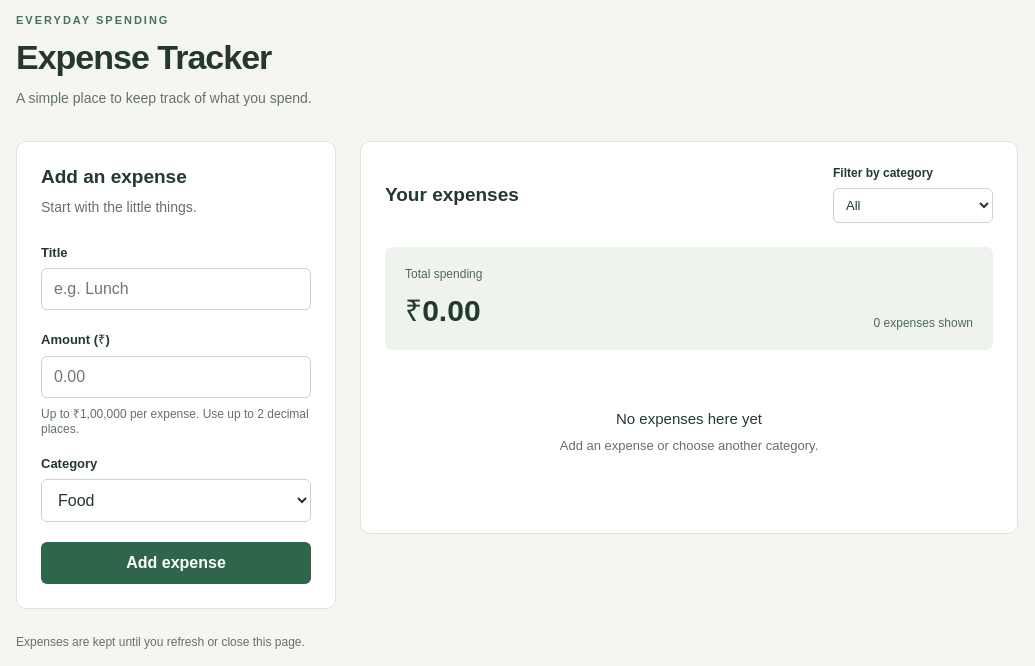
Test: expense tracker › shows zero when a category has no expenses
Step 1. Type "Lunch" into the field labelled "Title" → (176, 289), box [41,268,311,310]
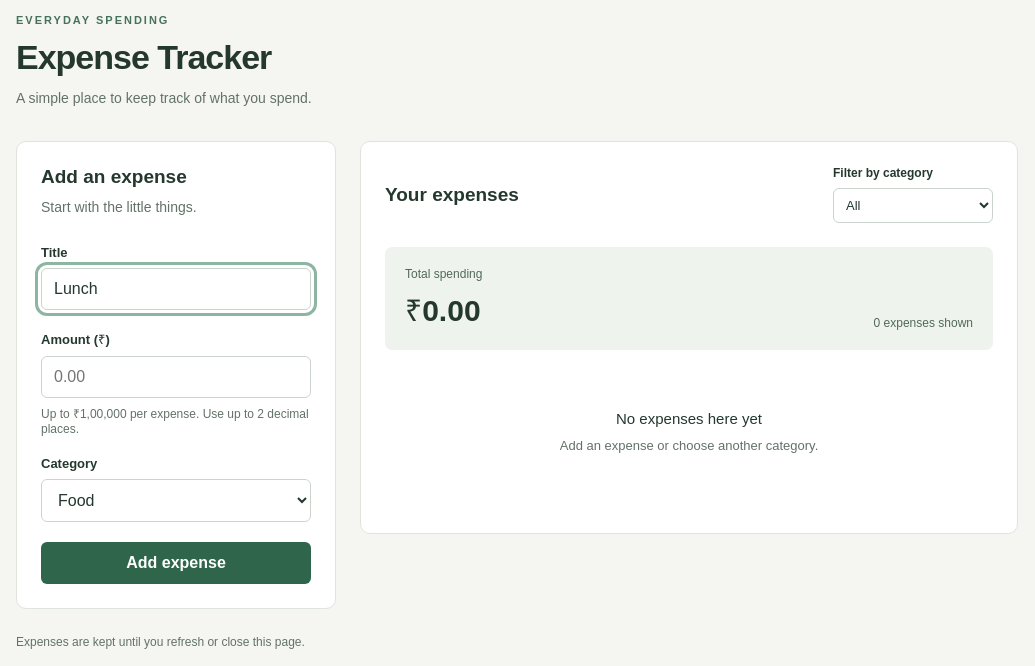
Step 2. Type "250" into the field labelled "Amount (₹)" → (176, 377), box [41,356,311,398]
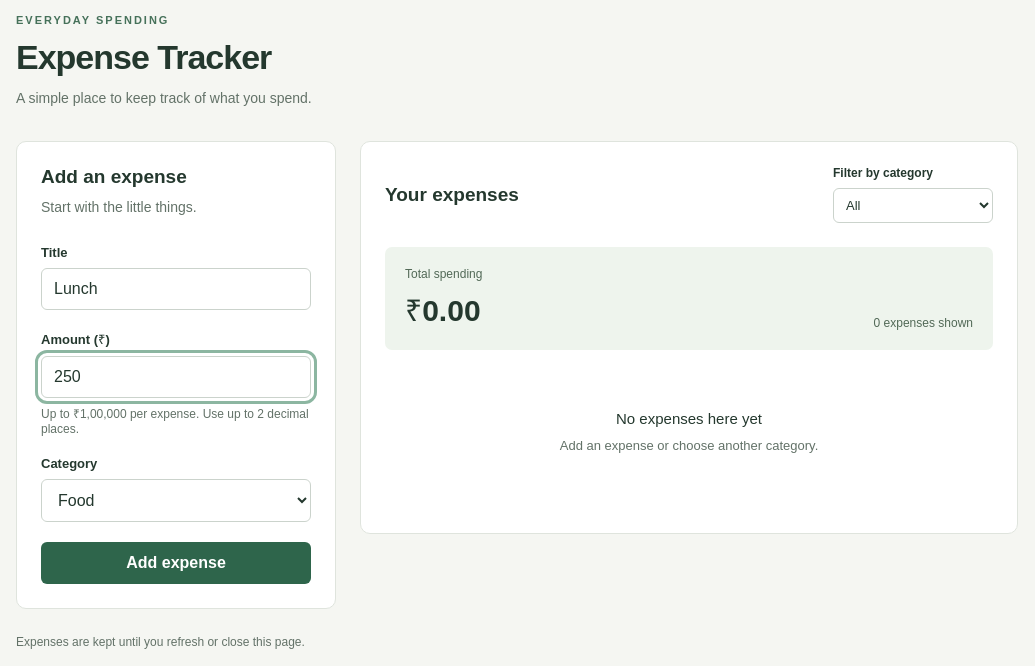
Step 3. Select "Food" in the dropdown labelled "Category" → (176, 500), box [41,479,311,522]
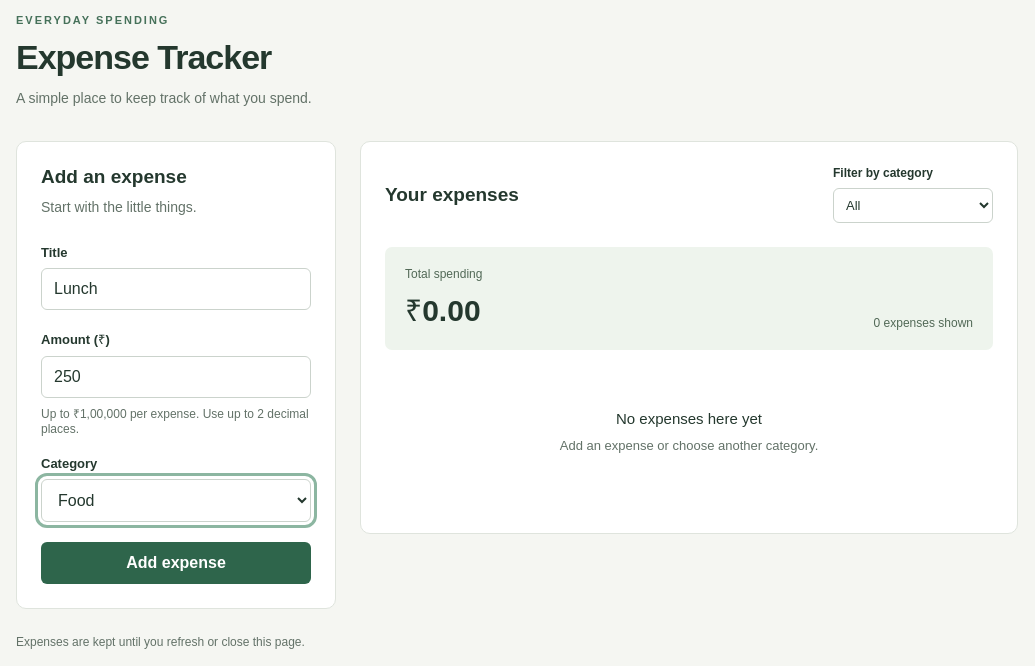
Step 4. Click the button "Add expense" → (176, 563), box [41,542,311,584]
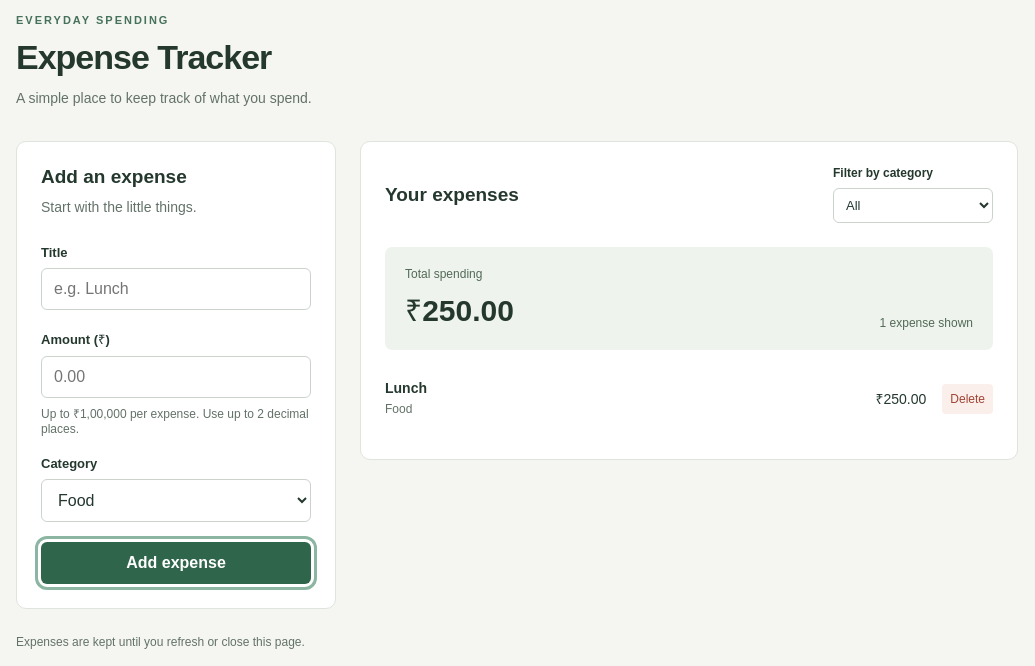
Step 5. Select "Bills" in the dropdown labelled "Filter by category" → (913, 206), box [833,188,993,223]
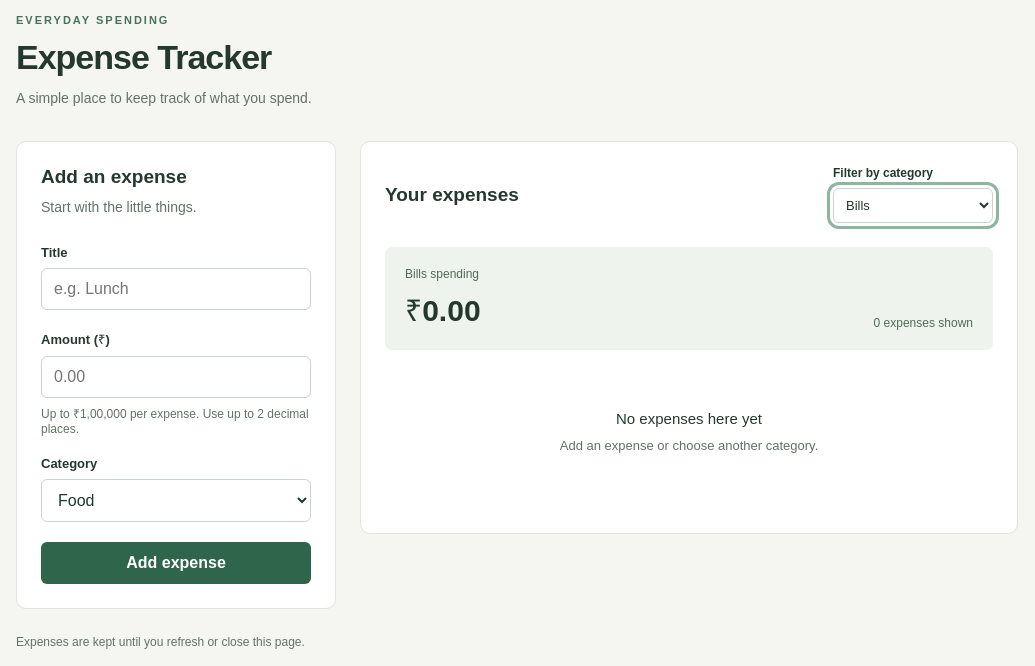
expect no list items are shown: met
expect the text "0 expenses shown" is shown: met, box [874,316,973,330]
expect the text "₹0.00" is shown: met, box [405,289,481,330]
